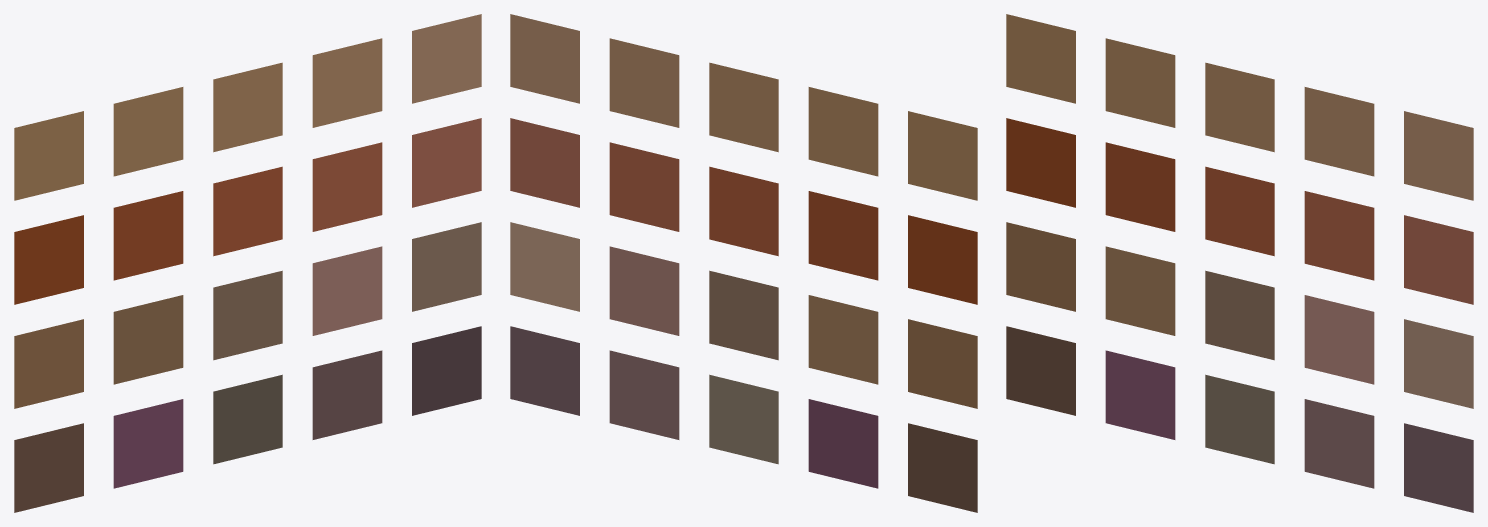
File: reference.gltf
3 views of the same model, side by side, from view 1: azimuth 30°, elevation 25°; view 2: azimuth 150°, elevation 25°; view 3: azimuth 330°, elevation 25° (orthographic).
Size of the model in its own units: 9.4 by 7.4 by 0.
